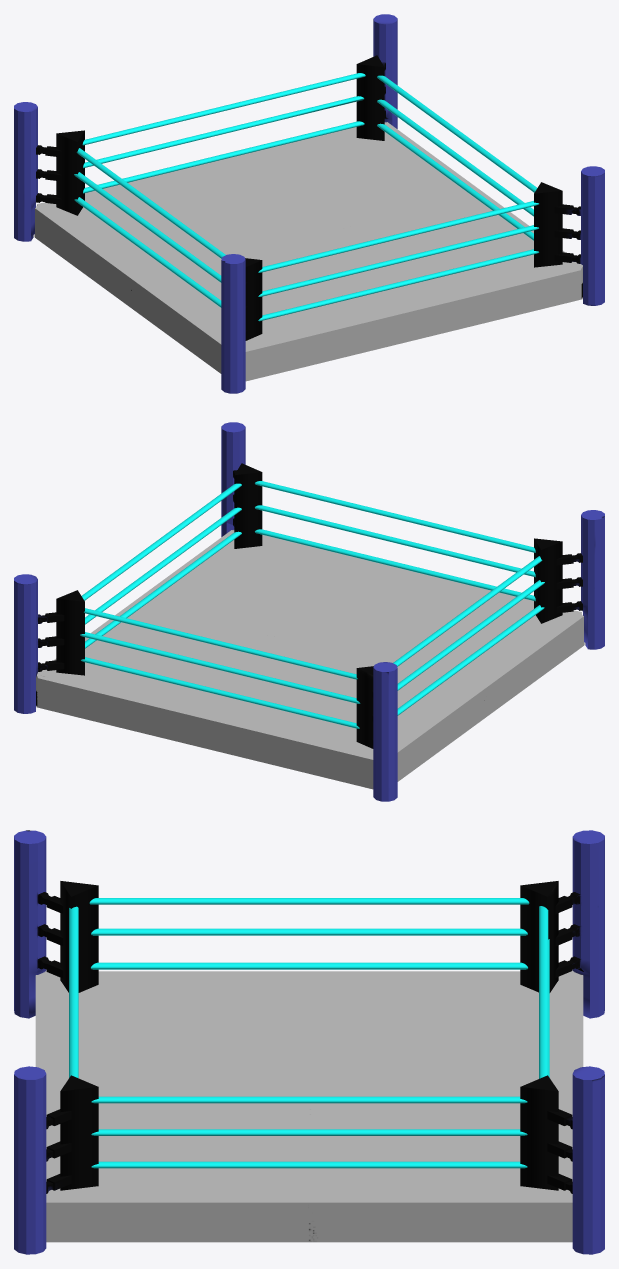
File: ring.obj
3 renders of one model, top to bottom at view 1: azimuth 30°, elevation 25°; view 2: azimuth 150°, elevation 25°; view 3: azimuth 270°, elevation 25°, orthographic. The views are drawn at different scales.
Parts seen in each view (by area): view 1: 円柱.001, 円柱.003_円柱.005, 円柱.002_円柱.003; view 2: 円柱.001, 円柱.003_円柱.005, 円柱.002_円柱.003; view 3: 円柱.001, 円柱.002_円柱.003, 円柱.003_円柱.005.
Boxes of the visible parts, x1,y1,x2,y2 form: 円柱.001: (14,14,604,393); 円柱.003_円柱.005: (82,73,538,321); 円柱.002_円柱.003: (74,75,537,307); 円柱.001: (14,422,604,801); 円柱.003_円柱.005: (80,481,535,728); 円柱.002_円柱.003: (81,483,544,715); 円柱.001: (14,830,604,1254); 円柱.002_円柱.003: (89,898,529,1168); 円柱.003_円柱.005: (69,906,549,1078).
Bounding box in the file's own units: 10.79 × 3.51 × 10.79.
Materials: 3 (3 with a texture image).
